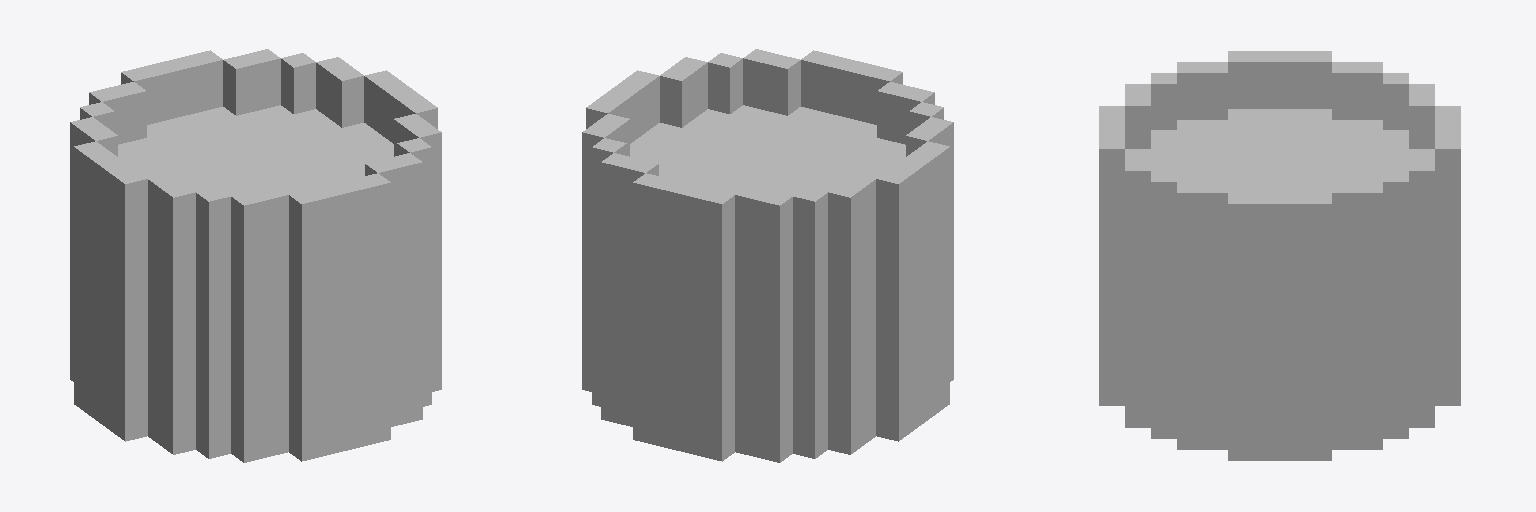
The model's file is clothing_dye_machine_fill.obj.
3 views of the same model, side by side, from view 1: azimuth 30°, elevation 25°; view 2: azimuth 150°, elevation 25°; view 3: azimuth 270°, elevation 25° (orthographic).
Parts seen in each view (by area): view 1: node_0_0_0, node_0_0_0.001; view 2: node_0_0_0, node_0_0_0.001; view 3: node_0_0_0, node_0_0_0.001.
Boxes of the visible parts, <box> form: node_0_0_0: <box>70,49,441,462</box>; node_0_0_0.001: <box>118,105,393,195</box>; node_0_0_0: <box>582,49,953,462</box>; node_0_0_0.001: <box>630,105,905,195</box>; node_0_0_0: <box>1099,51,1460,460</box>; node_0_0_0.001: <box>1151,109,1408,192</box>.
Size of the model in its own units: 0.875 by 0.6875 by 0.875.